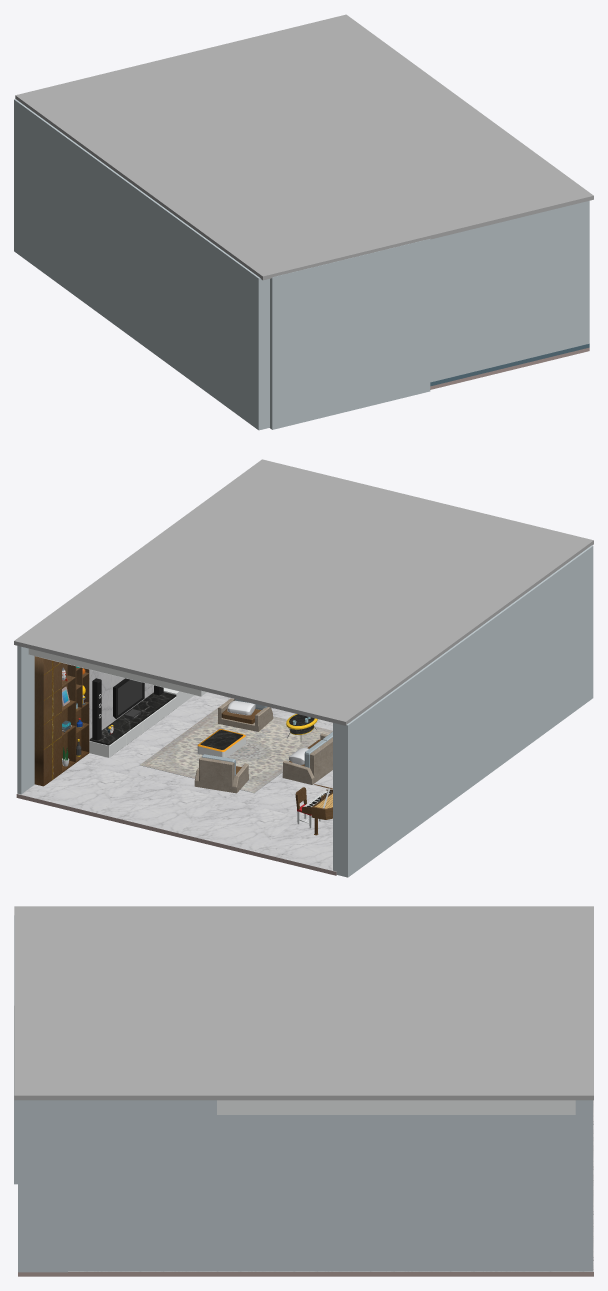
File: Map-Mainsion.fbx
3 views of the same model, one above another, from view 1: azimuth 30°, elevation 25°; view 2: azimuth 150°, elevation 25°; view 3: azimuth 270°, elevation 25° (orthographic). The views are drawn at different scales.
Visible parts, largest first — view 1: tran_nha, tuong.002, tuong2, model:model:polySurface45, san_nha; view 2: tran_nha, tuong.002, san_nha, tu_tuong, tham_san, tuong_nha, tu_tivi, polySurface46, polySurface61, tuong, tran_thach_cao, polySurface64 (+4 smaller); view 3: tran_nha, tuong_nha, model:model:polySurface45, tran_thach_cao, san_nha, tuong2.
Boxes of the visible parts, x1,y1,x2,y2 form: tran_nha: (15,14,593,280); tuong.002: (14,99,269,430); tuong2: (270,239,430,429); model:model:polySurface45: (430,201,589,386); san_nha: (430,347,589,389); tran_nha: (14,459,593,725); tuong.002: (333,545,593,877); san_nha: (16,692,336,875); tu_tuong: (34,656,89,786); tham_san: (140,704,332,793); tuong_nha: (17,646,34,794); tu_tivi: (89,692,176,757); polySurface46: (194,757,248,793); polySurface61: (282,733,332,784); tuong: (89,669,153,740); tran_thach_cao: (28,648,206,696); polySurface64: (197,729,245,757); tran_nha: (14,906,593,1100); tuong_nha: (68,1100,592,1271); model:model:polySurface45: (18,1100,67,1272); tran_thach_cao: (217,1100,575,1114); san_nha: (18,1100,593,1276); tuong2: (14,915,17,1184).
Size of the model in its own units: 65.41 by 30.66 by 84.33.
